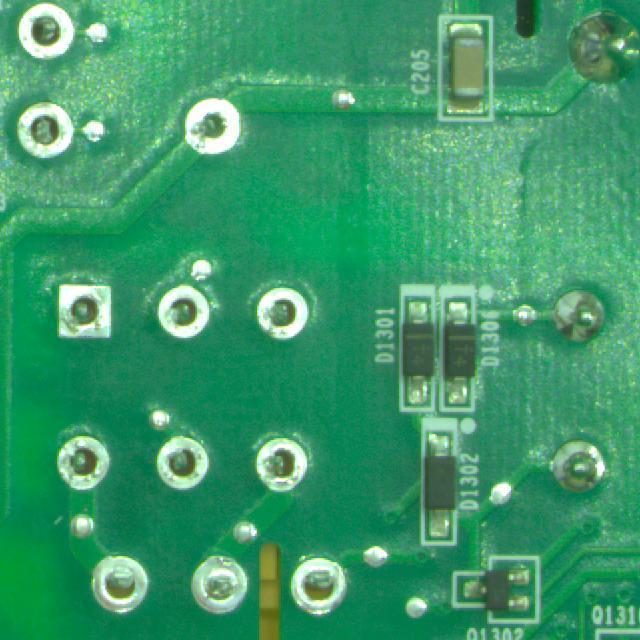Insufficient solder: (48, 274, 120, 345), (86, 551, 155, 621), (146, 275, 218, 339), (250, 279, 314, 345), (12, 2, 80, 64), (283, 557, 350, 619), (184, 555, 252, 616), (251, 426, 311, 495), (180, 96, 245, 159), (14, 99, 78, 162), (153, 432, 215, 492), (53, 432, 111, 489)
